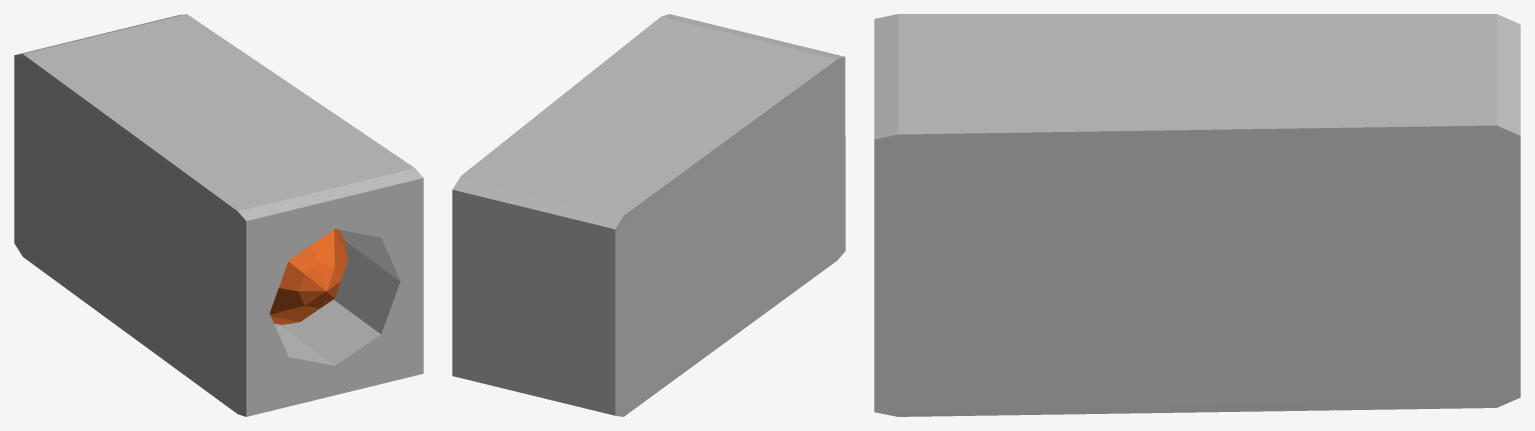
Rendered from MissilePod_Weist.fbx.
3 renders of one model, left to right at view 1: azimuth 30°, elevation 25°; view 2: azimuth 150°, elevation 25°; view 3: azimuth 270°, elevation 25°, orthographic. The views are drawn at different scales.
Visible parts, largest first — view 1: MissilePod_Weist; view 2: MissilePod_Weist; view 3: MissilePod_Weist.
Part boxes in pixels (x1,y1,x2,y2): MissilePod_Weist: [14, 14, 423, 416]; MissilePod_Weist: [452, 14, 845, 416]; MissilePod_Weist: [874, 14, 1520, 416].
Size of the model in its own units: 56.03 by 127 by 61.18.
